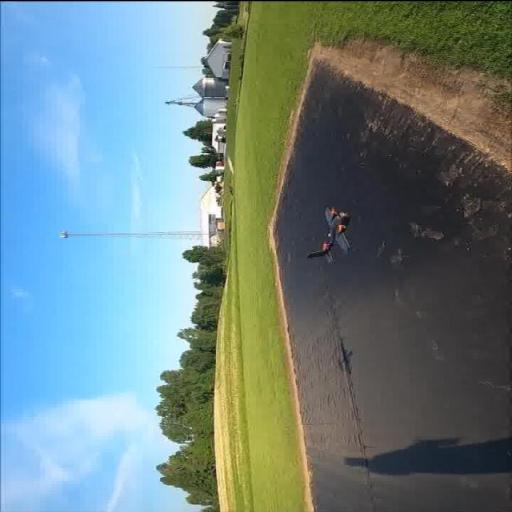uav: (302, 204, 364, 264)
